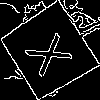X: (24, 26, 82, 79)
